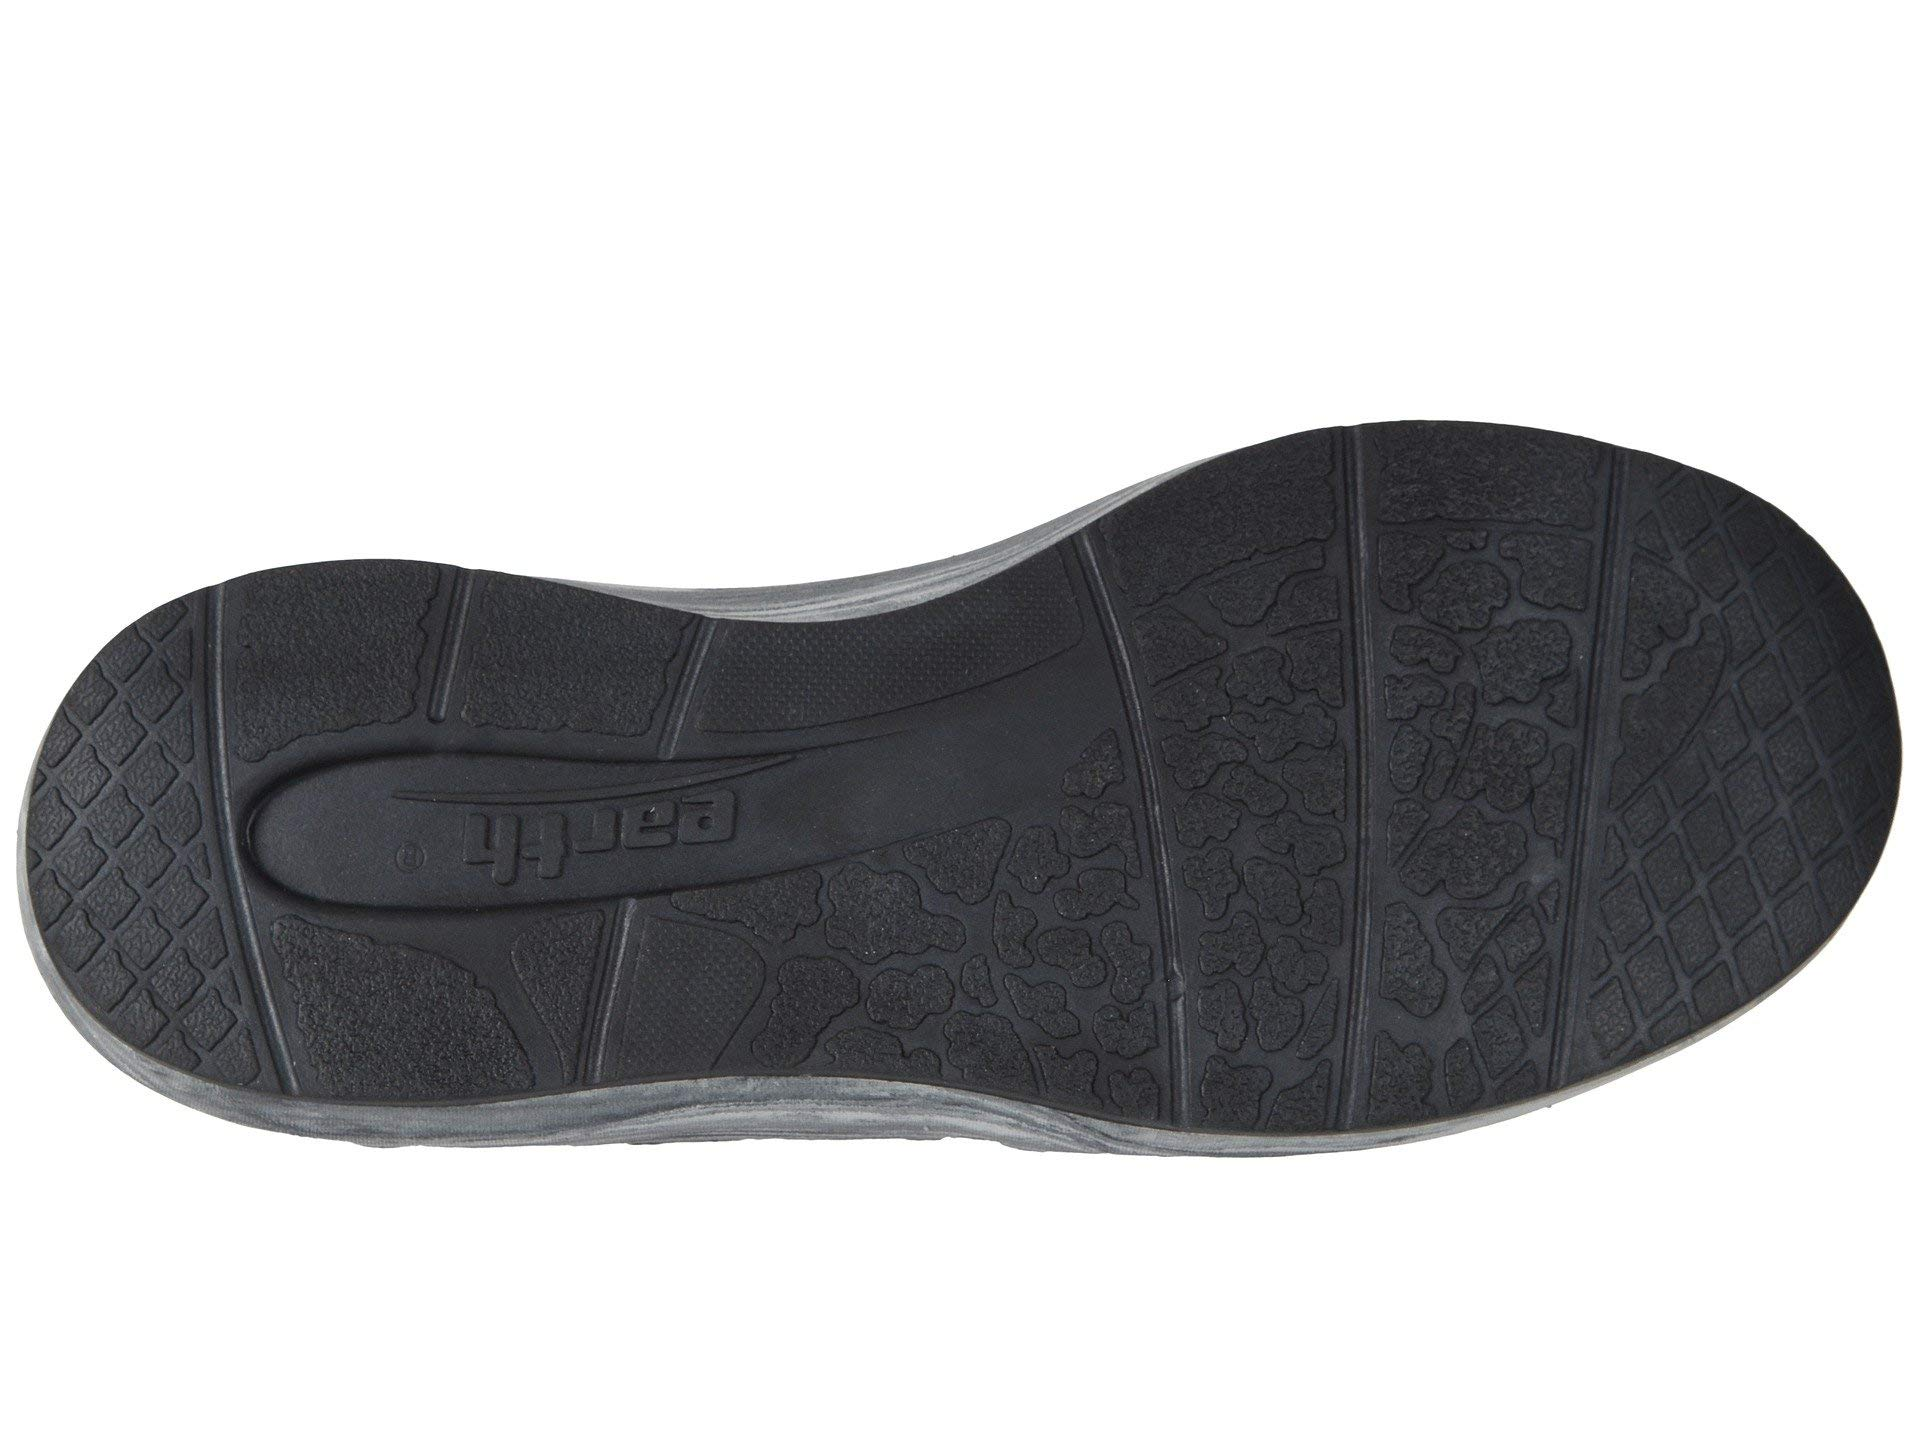quad: (1615, 672, 1884, 927)
